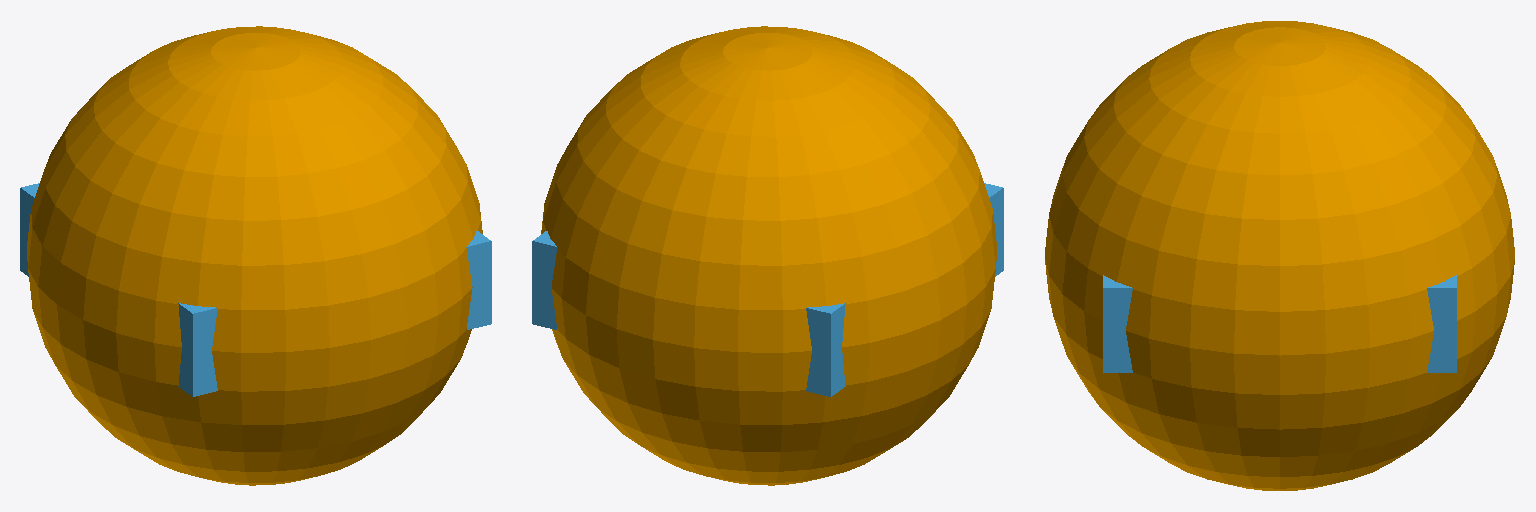
The robot description file, URDF, robot "ball":
<?xml version="1.0"?>
<robot name="ball">
    <link name="base_link">
        <visual>
            <geometry>
                <sphere radius="0.5"/>
            </geometry>
        </visual>
        <collision>
            <geometry>
                <sphere radius="0.5"/>
            </geometry>
        </collision>
        <inertial>
            <mass value="1"/>
            <inertia ixx="0.1" ixy="0.0" ixz="0.0" iyy="0.1" iyz="0.0" izz="0.1"/>
        </inertial>
        
    </link>
    <link name="base_link2">
        <visual>
            <geometry>
                <box size="0.75 0.75 0.2"/>
            </geometry>
        </visual>
        
    </link>
    <joint name="fixed_joint" type="fixed">
        <parent link="base_link"/>
        <child link="base_link2"/>
    </joint>

    <gazebo reference="base_link">
        <collision name='base_link_collision'>
        <surface>
        <friction>
        <ode>
        <mu>0.0</mu>
        <mu2>0.0</mu2>
        <fdir1>1 0 0</fdir1>
        </ode>
        </friction>
        <contact>
        <ode>
        <kp>1e+13</kp>
        <kd>1</kd>
        <max_vel>10.0</max_vel>
        </ode>
        </contact>
        <bounce>
        <restitution_coefficient>0.5</restitution_coefficient>
        <threshold>0.00</threshold>
        </bounce>
        </surface>
        </collision>
    </gazebo>
</robot>

--- Render facts (derived) ---
Views: 3 orthographic renders of the robot side by side, from view 1: azimuth 30°, elevation 25°; view 2: azimuth 150°, elevation 25°; view 3: azimuth 270°, elevation 25°.
Robot: ball — 2 links, 1 joints (1 fixed); root link base_link; default pose: every joint at zero.
Links seen in each view (by area): view 1: base_link, base_link2; view 2: base_link, base_link2; view 3: base_link, base_link2.
Boxes of the visible links, box(x1,y1,x2,y2) form: base_link: box(27, 26, 482, 485); base_link2: box(20, 183, 491, 396); base_link: box(541, 26, 996, 485); base_link2: box(532, 183, 1003, 396); base_link: box(1045, 21, 1514, 490); base_link2: box(1103, 275, 1456, 372).
Size in the robot's own frame: 1 by 1 by 1 metres.
Geometry: primitives only (box / cylinder / sphere), no mesh files.